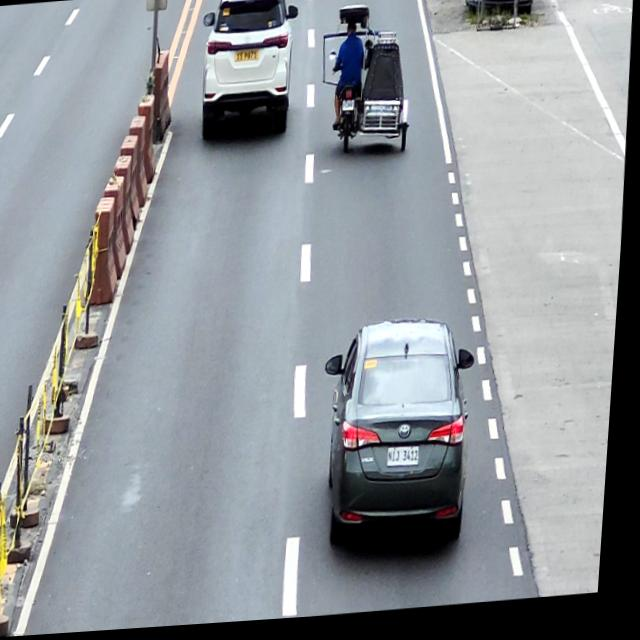Car: (320, 319, 485, 558), (196, 0, 303, 144)
License-Plate: (393, 451, 426, 474), (234, 52, 260, 65), (343, 104, 356, 116)
Tricycle: (321, 6, 418, 162)
